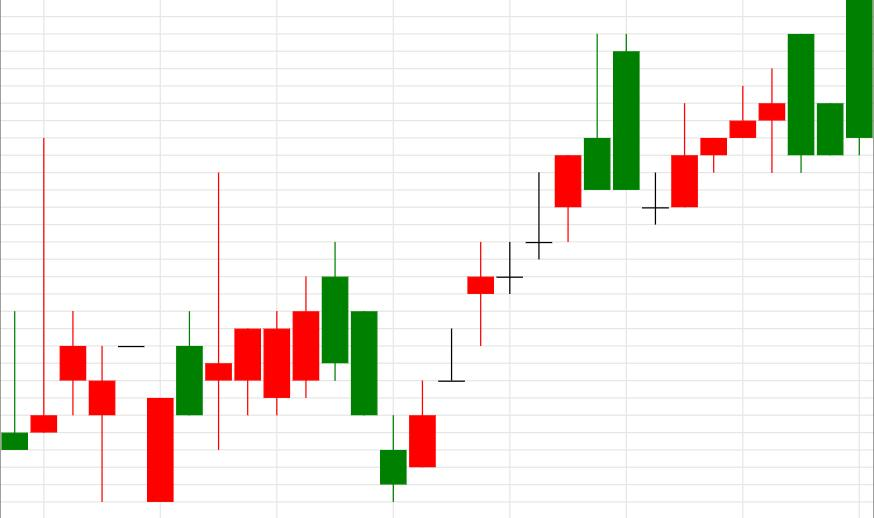shooting_star_fall: (410, 33, 610, 468)
